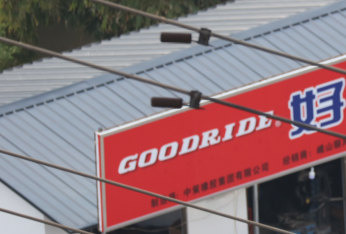damper_defect: (158, 24, 219, 49), (149, 88, 208, 111)
